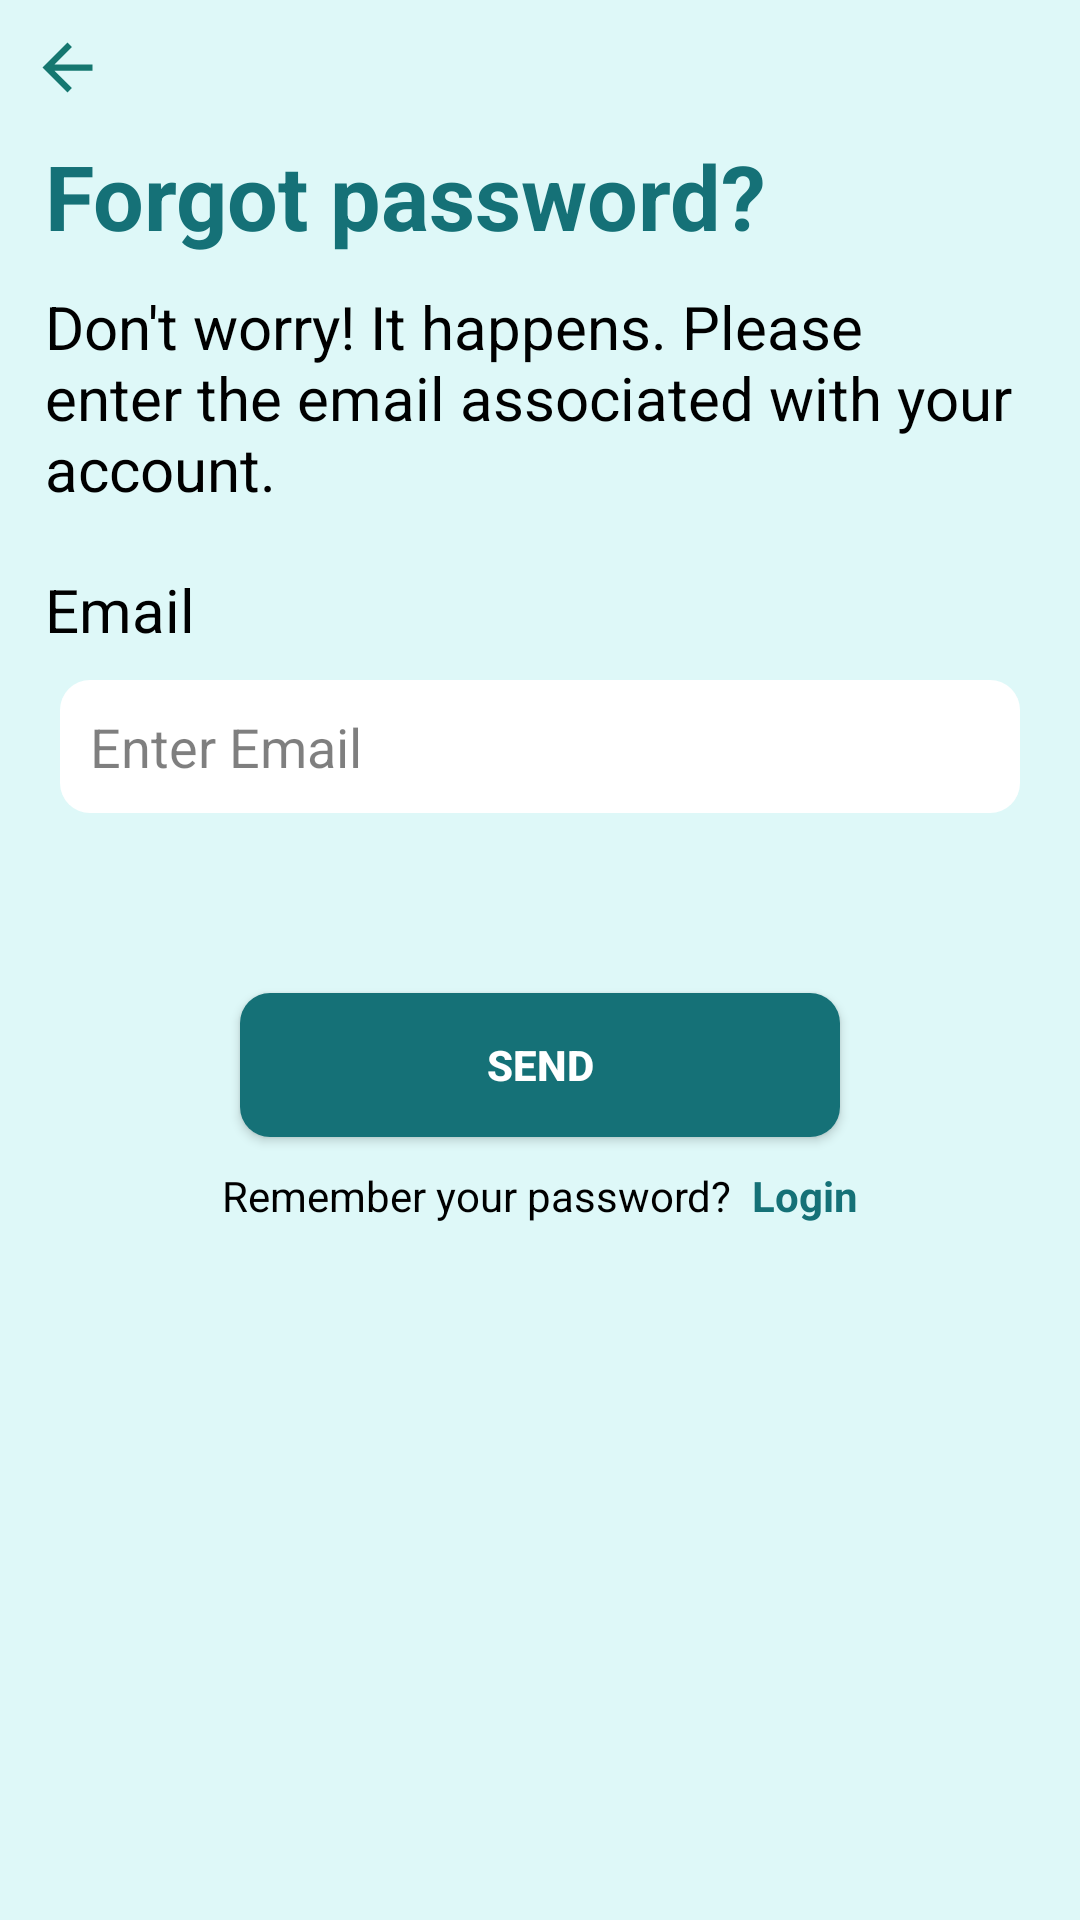

Named icons in this screenshot (1080*1920) and their centers, [x,y]:
arrow back: [67,67]
